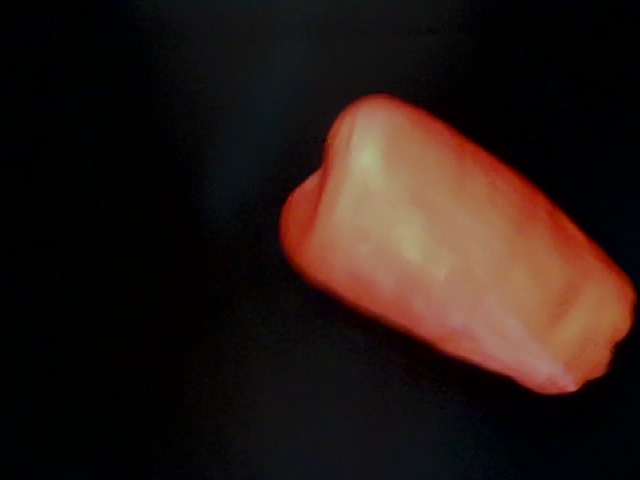CYLJ: (333, 102, 640, 443)
